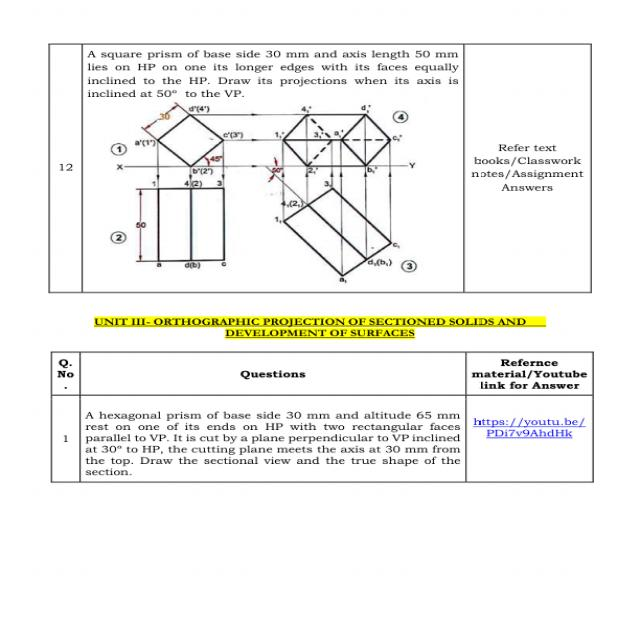Drawings: (97, 98, 429, 287)
